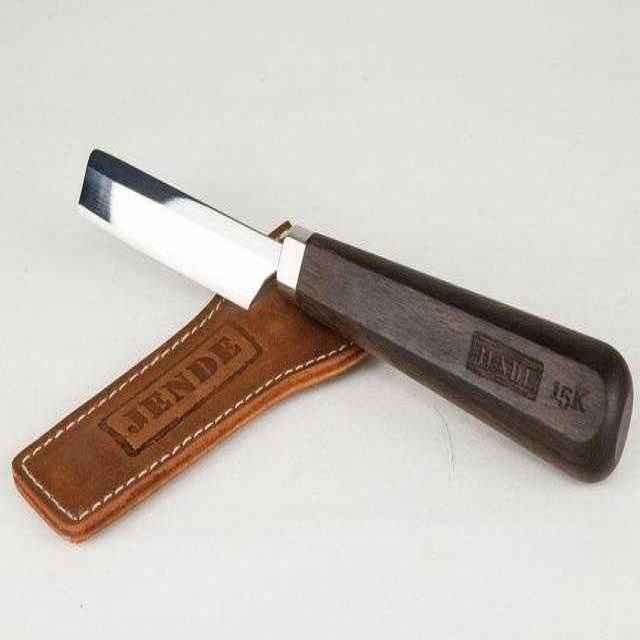knife: (69, 126, 640, 540)
